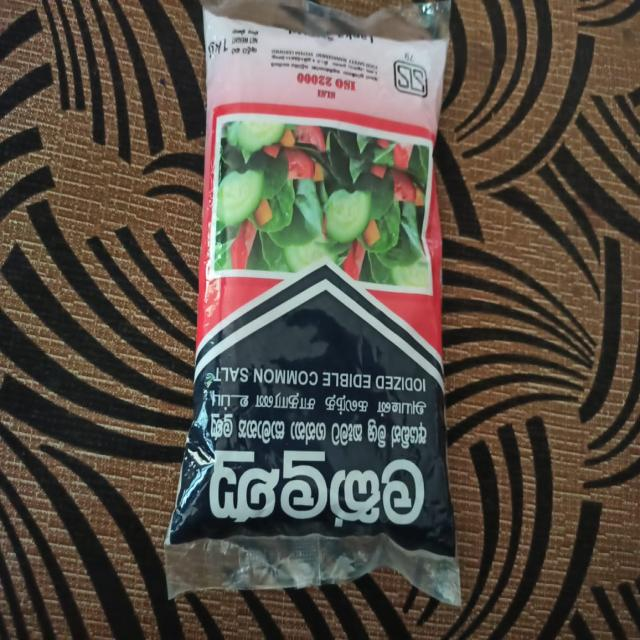Lak Lunu: (175, 1, 455, 624)
